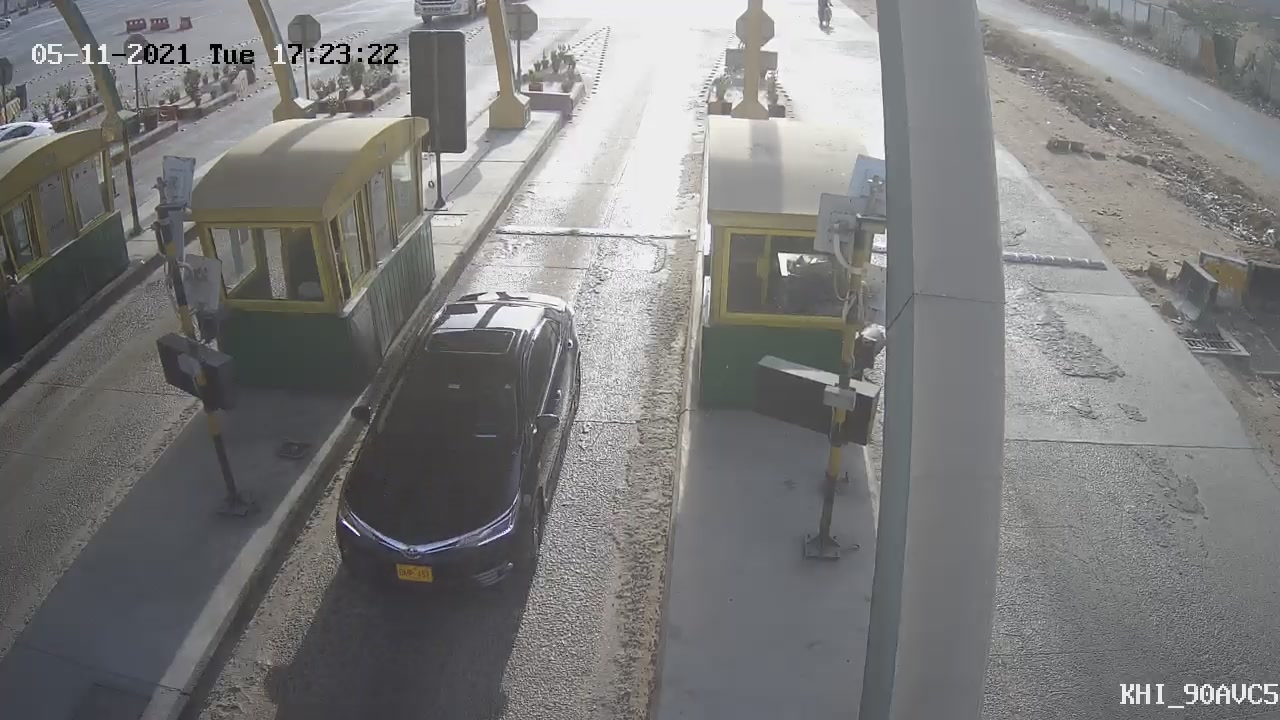F1: (296, 266, 616, 631)
